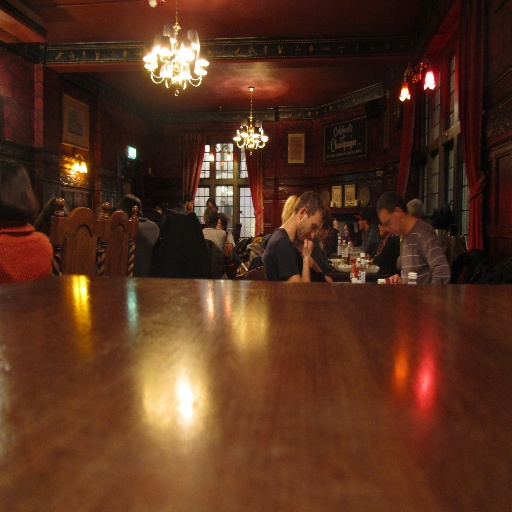hand: (302, 236, 314, 258), (385, 273, 402, 283)
